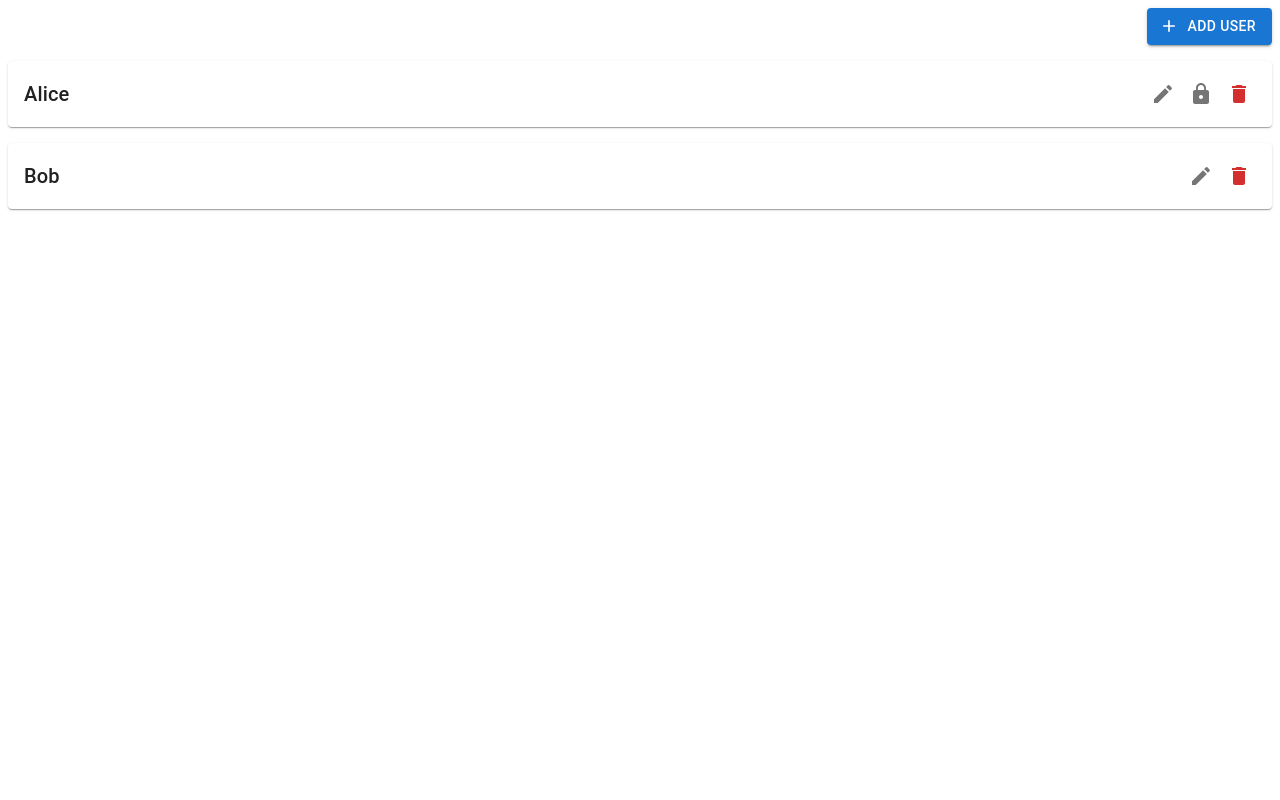
Test: Change Password › shows error when any field is empty
This screenshot has width=1280, height=800.
Click the button named "change password".
click(1201, 94)  # box [1184,76,1218,110]
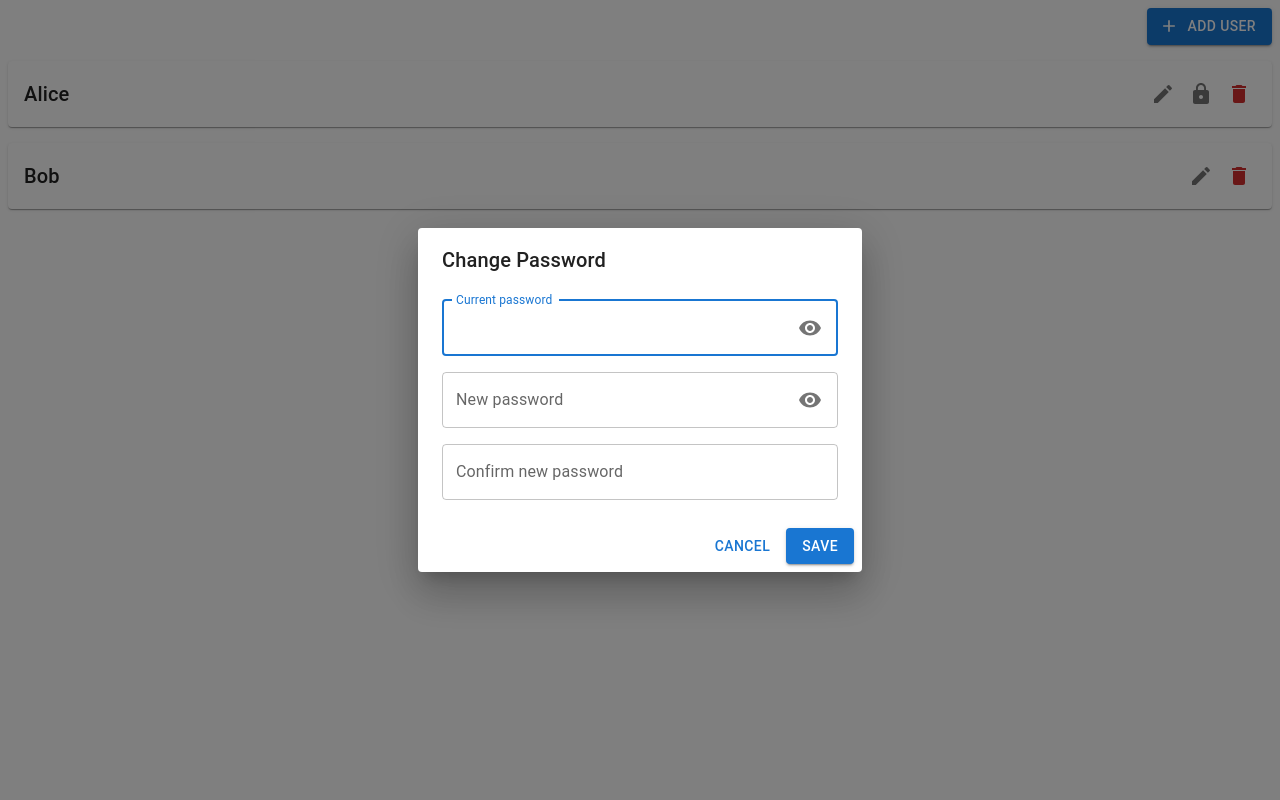
Click the button "Save".
click(820, 546)  # box [786,528,854,564]
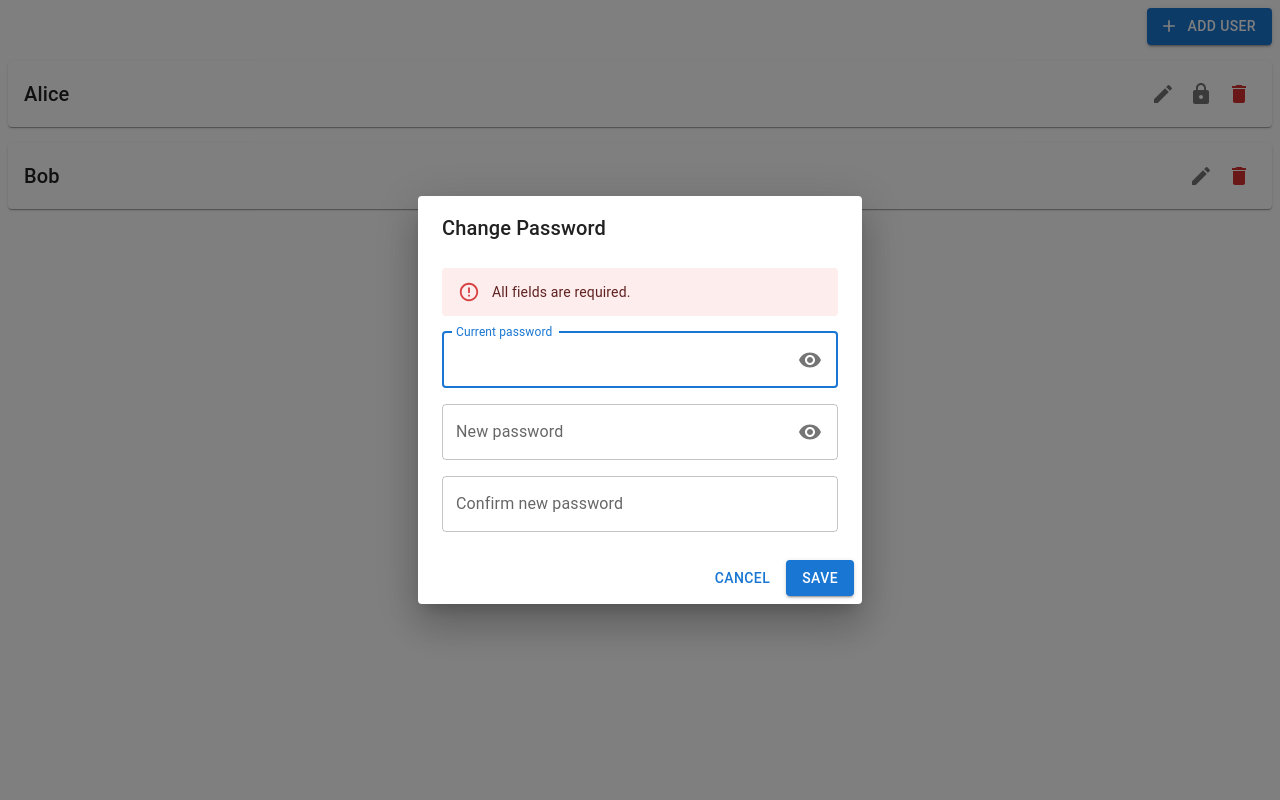
Result: the text "All fields are required." is shown at [492,284,631,300]
